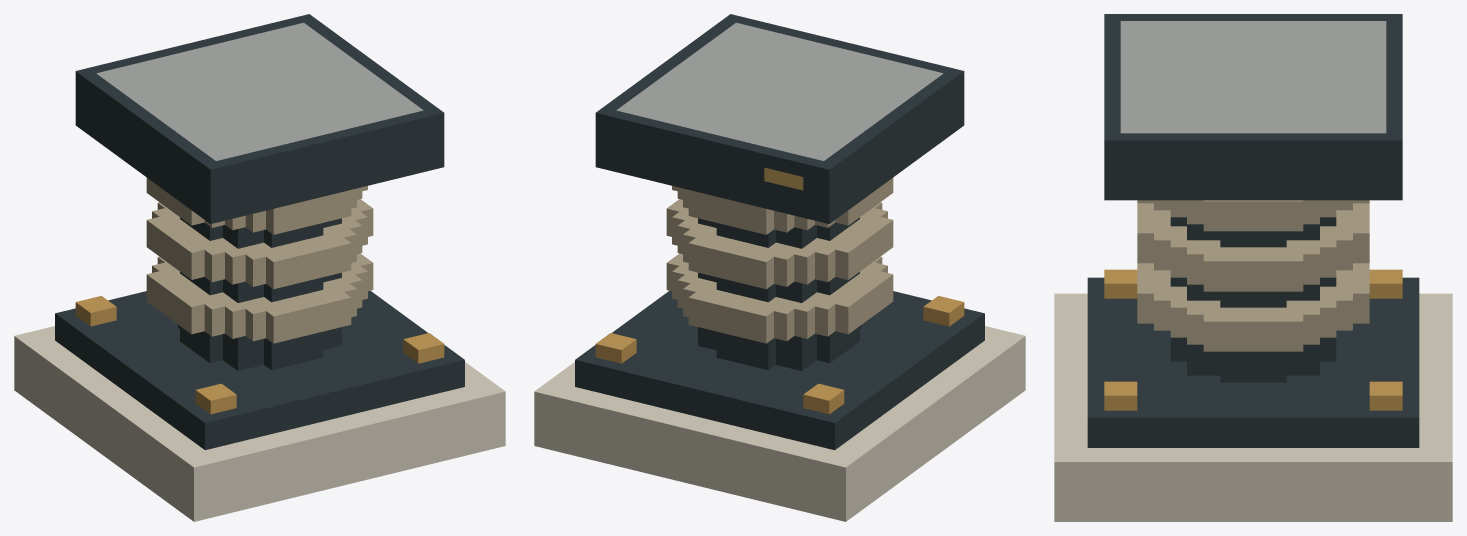
3 views of the same model, side by side, from view 1: azimuth 30°, elevation 25°; view 2: azimuth 150°, elevation 25°; view 3: azimuth 270°, elevation 25° (orthographic). The views are drawn at different scales.
Visible parts, largest first — view 1: 码头系船柱与护舷道具; view 2: 码头系船柱与护舷道具; view 3: 码头系船柱与护舷道具.
Part boxes in pixels (left/top/right/bottom): 码头系船柱与护舷道具: left=14, top=14, right=505, bottom=521; 码头系船柱与护舷道具: left=534, top=14, right=1025, bottom=521; 码头系船柱与护舷道具: left=1054, top=14, right=1452, bottom=521.
Size of the model in its own units: 1.2 by 1.2 by 1.2.
6 materials, 6 textured.
